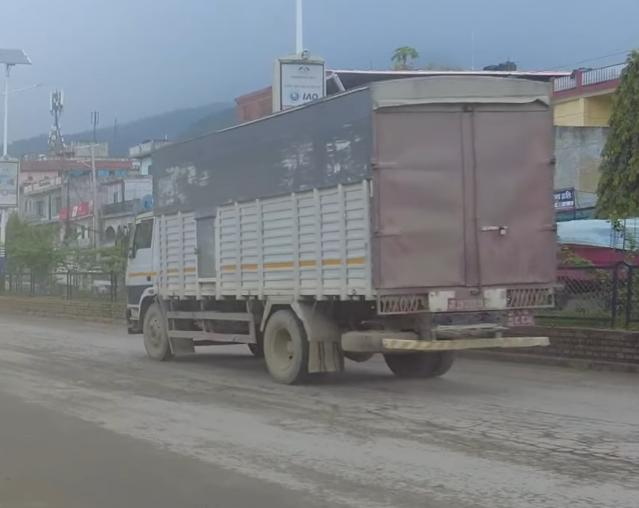truck: (124, 72, 559, 384)
